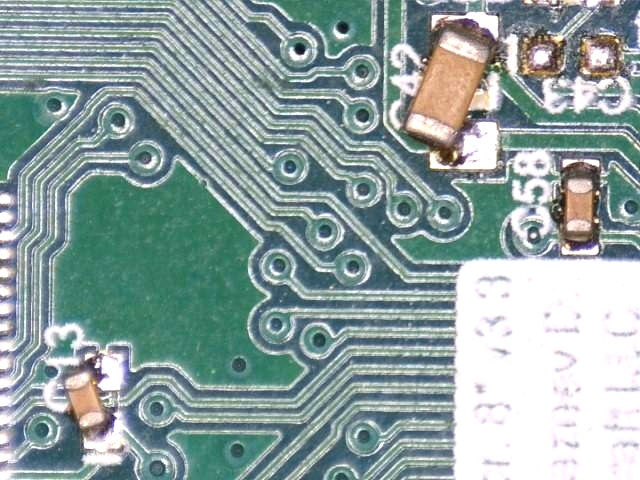pcb_defect: (404, 15, 498, 169), (63, 355, 120, 449)
